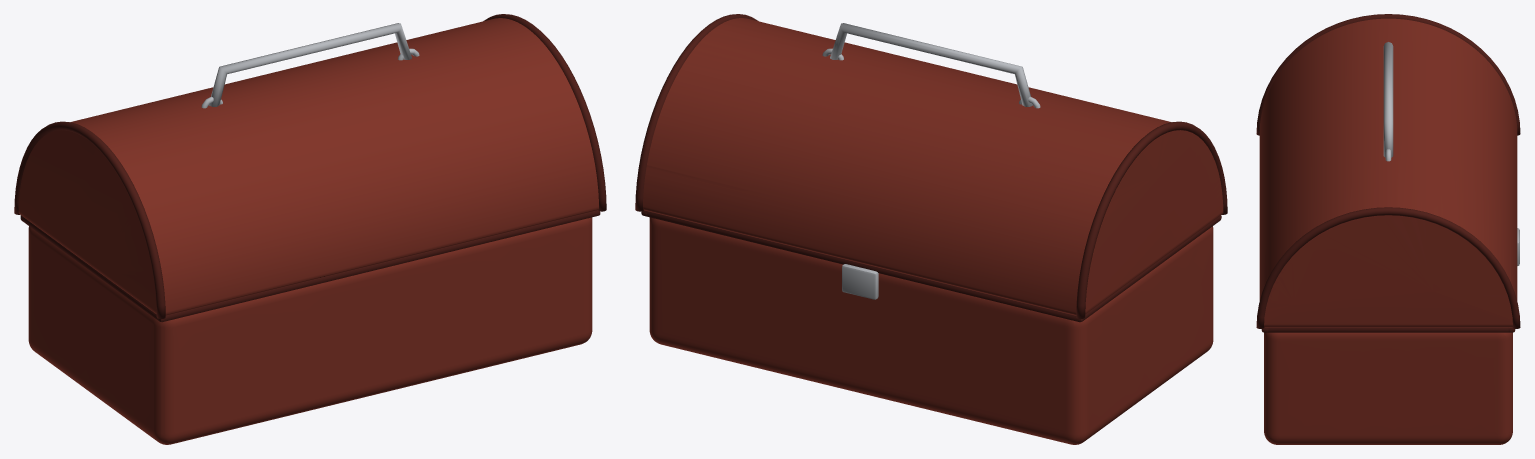
The model's file is lunch_tin.fbx.
The picture shows the model from 3 angles, left to right: view 1: azimuth 30°, elevation 25°; view 2: azimuth 150°, elevation 25°; view 3: azimuth 270°, elevation 25°; orthographic projection. The views are drawn at different scales.
Visible parts, largest first — view 1: Lid, lunch_tin; view 2: Lid, lunch_tin; view 3: Lid, lunch_tin.
Part boxes in pixels (x1,y1,x2,y2): Lid: [14, 14, 606, 319]; lunch_tin: [20, 210, 600, 444]; Lid: [635, 14, 1227, 319]; lunch_tin: [641, 210, 1221, 444]; Lid: [1256, 14, 1520, 328]; lunch_tin: [1261, 228, 1519, 444].
Size of the model in its own units: 0.2056 by 0.1328 by 0.1166.
